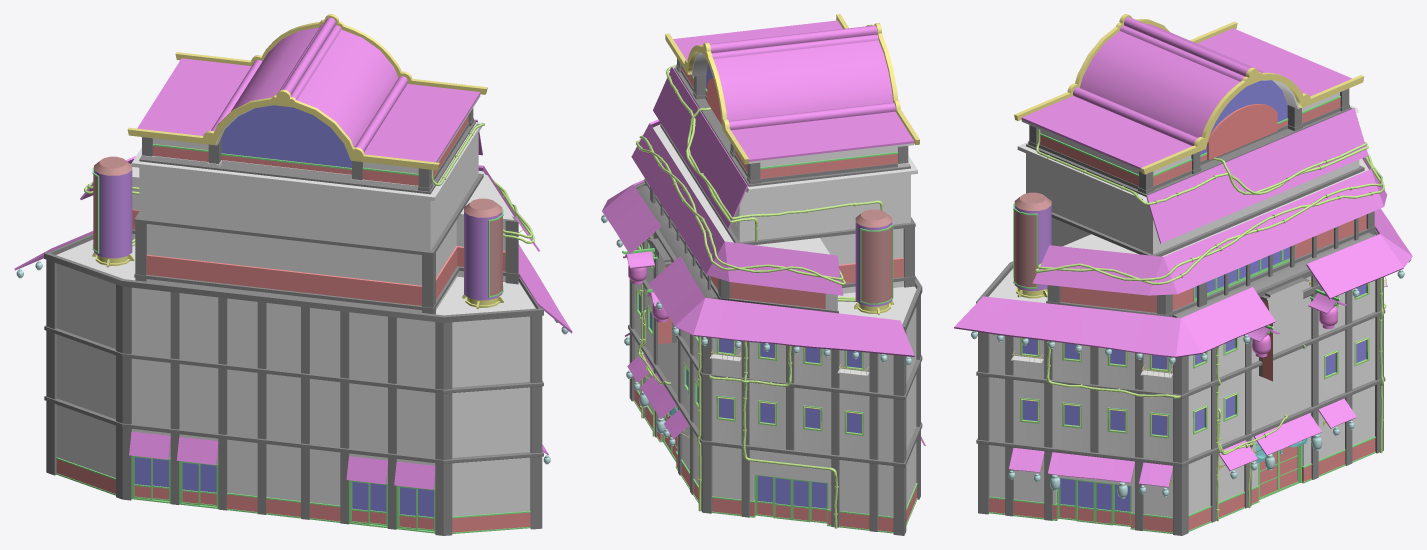
The model's file is SM_ENV_KNVLLG03_AreaB_BuildingAa.gltf.
3 renders of one model, left to right at view 1: azimuth 30°, elevation 25°; view 2: azimuth 150°, elevation 25°; view 3: azimuth 270°, elevation 25°, orthographic. The views are drawn at different scales.
Visible parts, largest first — view 1: SM_ENV_KNVLLG03_AreaB_BuildingAa; view 2: SM_ENV_KNVLLG03_AreaB_BuildingAa; view 3: SM_ENV_KNVLLG03_AreaB_BuildingAa.
Part boxes in pixels (<box>): SM_ENV_KNVLLG03_AreaB_BuildingAa: <box>14,14,572,535</box>; SM_ENV_KNVLLG03_AreaB_BuildingAa: <box>601,14,925,535</box>; SM_ENV_KNVLLG03_AreaB_BuildingAa: <box>954,14,1412,535</box>.
Bounding box in the file's own units: 35.83 × 35.54 × 35.83.
